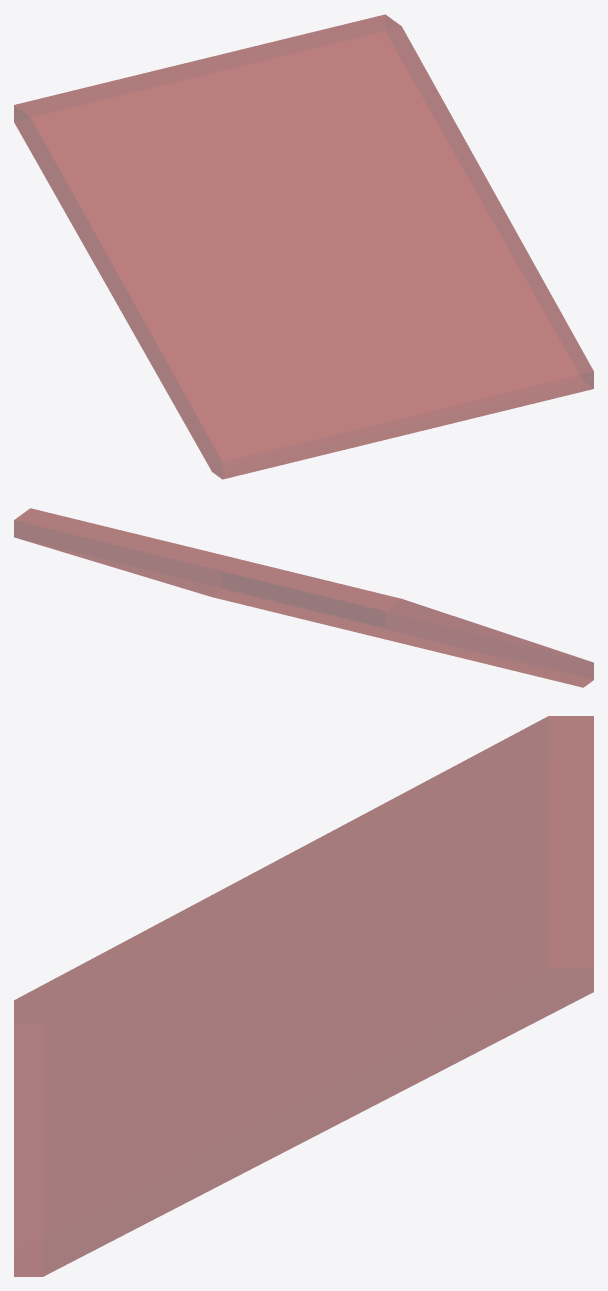
File: SM_Bld_Base_Stairs_Ornate_02_Short_Collision.fbx
3 views of the same model, one above another, from view 1: azimuth 30°, elevation 25°; view 2: azimuth 150°, elevation 25°; view 3: azimuth 270°, elevation 25° (orthographic). The views are drawn at different scales.
Visible parts, largest first — view 1: SM_Bld_Base_Stairs_Ornate_02_Short_Collision; view 2: SM_Bld_Base_Stairs_Ornate_02_Short_Collision; view 3: SM_Bld_Base_Stairs_Ornate_02_Short_Collision.
Boxes of the visible parts, x1,y1,x2,y2 form: SM_Bld_Base_Stairs_Ornate_02_Short_Collision: (14,14,593,479); SM_Bld_Base_Stairs_Ornate_02_Short_Collision: (14,508,593,687); SM_Bld_Base_Stairs_Ornate_02_Short_Collision: (14,716,593,1276).
Bounding box in the file's own units: 262 × 150 × 255.
